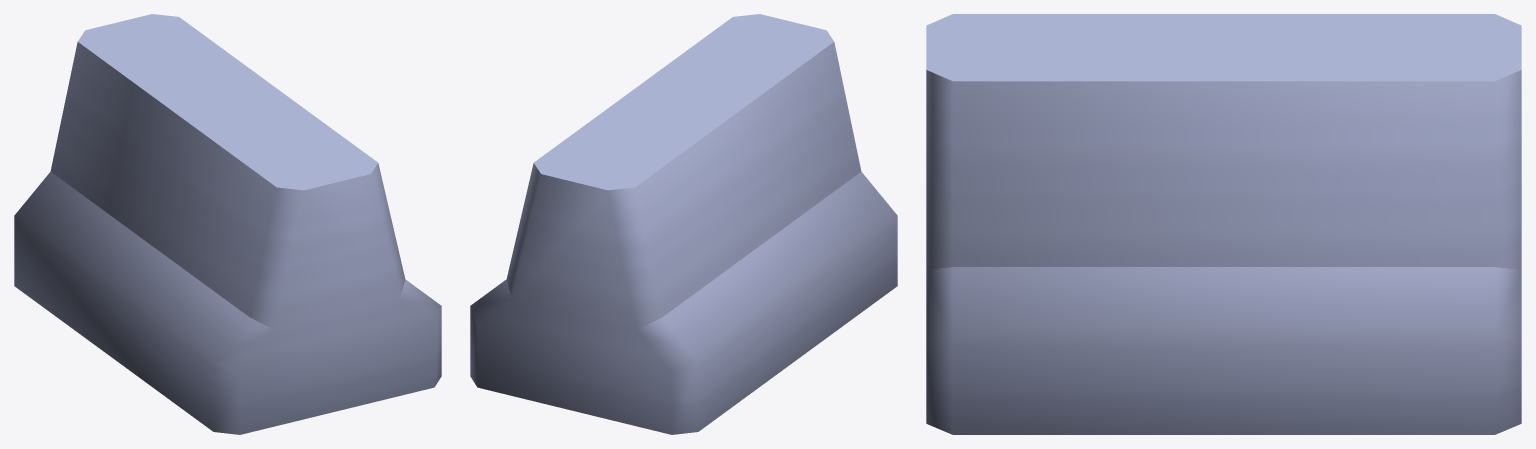
Rendered from construction-barrier.glb.
The picture shows the model from 3 angles, left to right: view 1: azimuth 30°, elevation 25°; view 2: azimuth 150°, elevation 25°; view 3: azimuth 270°, elevation 25°; orthographic projection. The views are drawn at different scales.
Visible parts, largest first — view 1: construction-barrier; view 2: construction-barrier; view 3: construction-barrier.
Boxes of the visible parts, box(x1,y1,x2,y2) form: construction-barrier: box(14, 14, 441, 434); construction-barrier: box(470, 14, 897, 434); construction-barrier: box(926, 14, 1521, 434).
Bounding box in the file's own units: 0.1355 × 0.13 × 0.225.
1 material, 1 textured.
